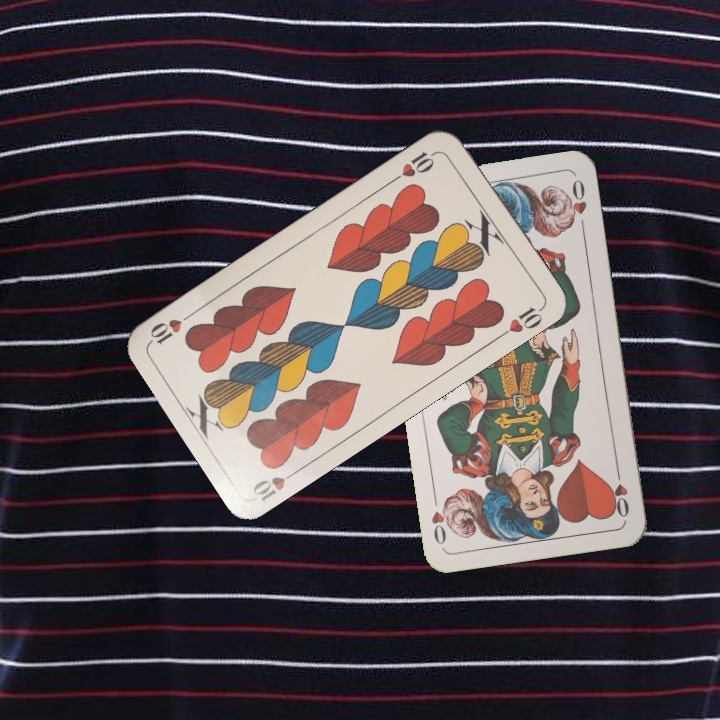H10: (248, 464, 303, 505), (388, 146, 442, 184)
HO: (606, 462, 632, 520)
